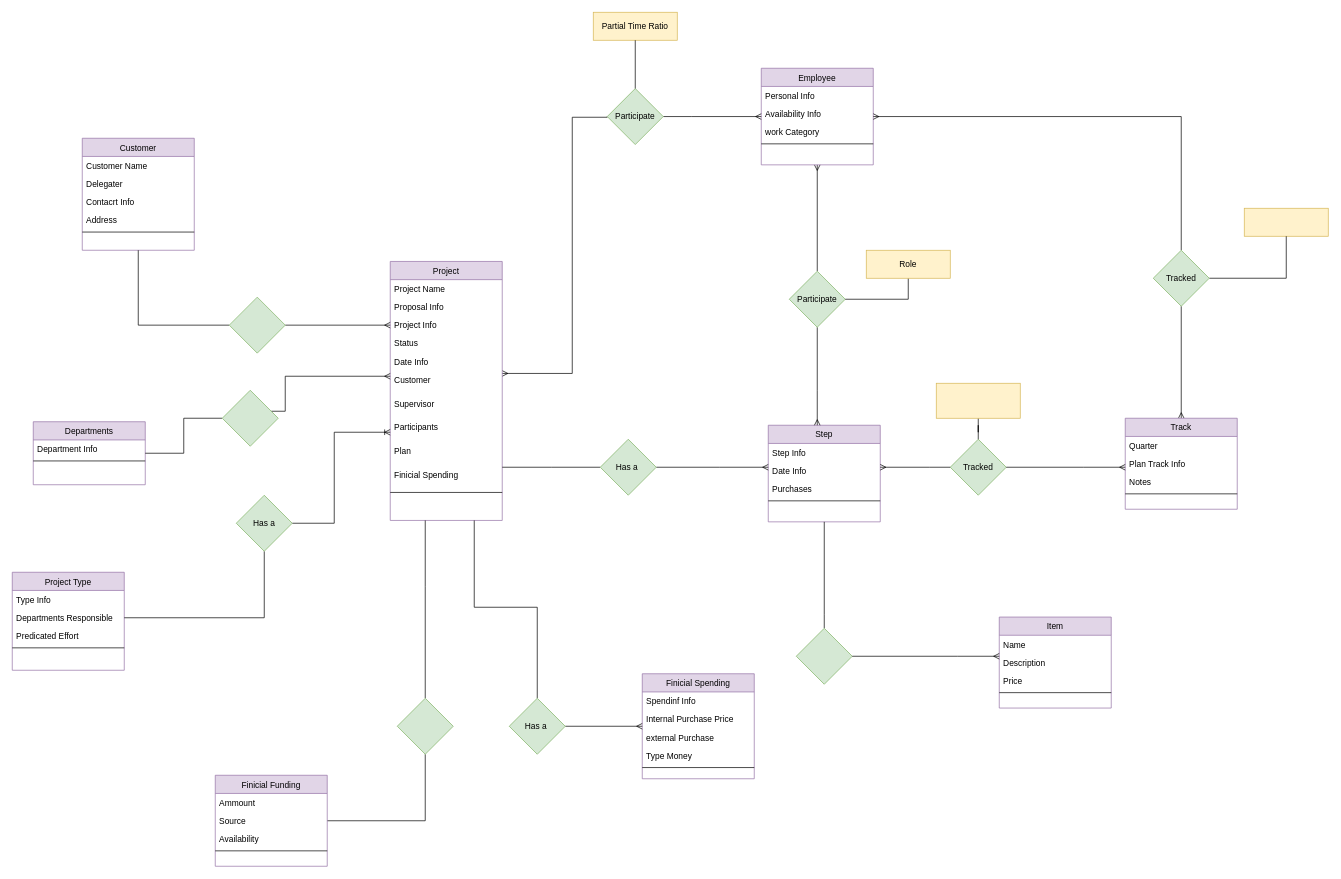
Image size: 1341x879. Some labels were removed from this diagram. Here are the shapes that lost their labels. From the top down, the centre of each, then its label:
the point at 1286,222: Working Hours Note
the point at 257,324: Propose
the point at 250,418: Execute a
the point at 978,400: Completion Ratio Note
the point at 824,656: Purchase a
the point at 425,726: Fund a
